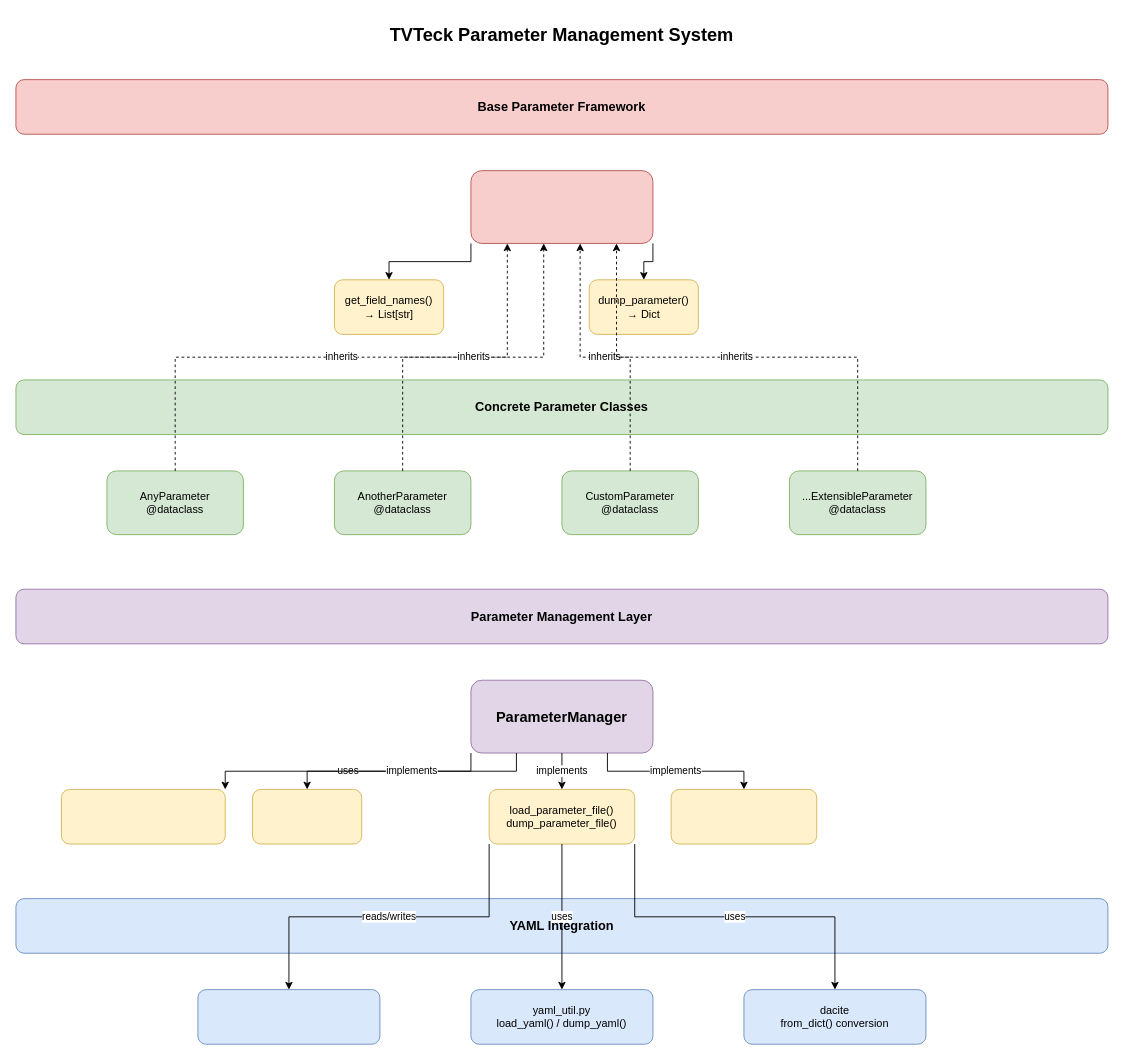
Image size: 1124x1060. Some labels were removed from this diagram. Each missing label, with the centre of its shape:
BaseParameter (Abstract Base Class): [561,206]
param_map {category: ParameterClass}: [143,816]
set_parameter() get_parameter(): [307,816]
show_parameter() set_all_parameters(): [743,816]
YAML Configuration Files: [288,1016]
